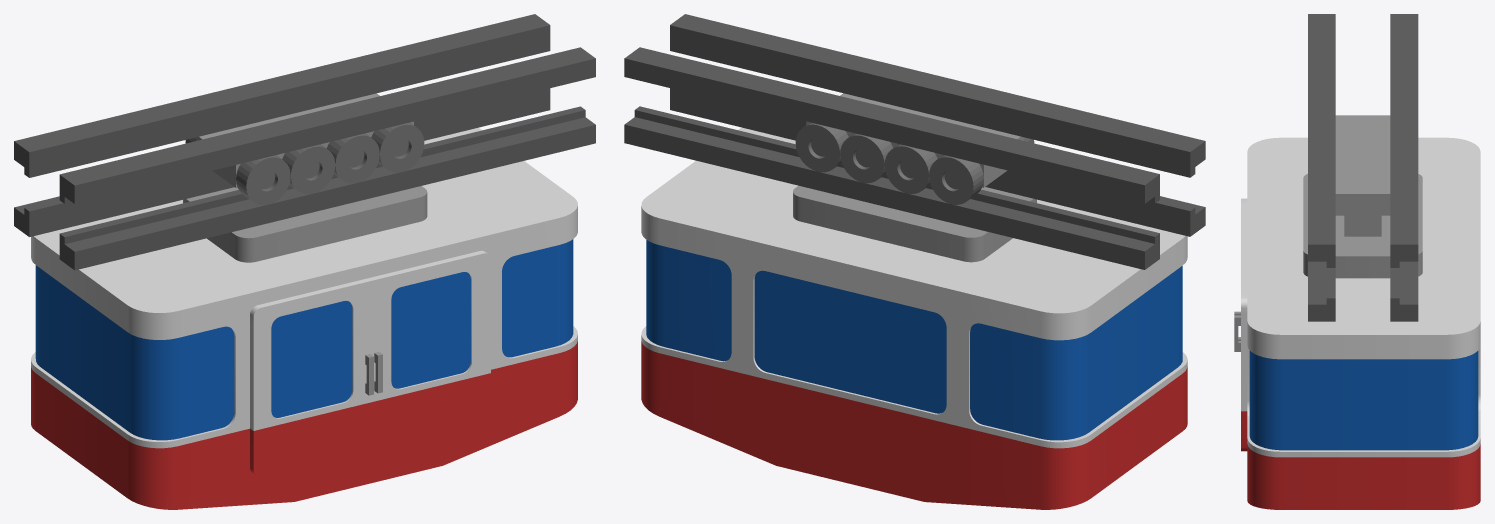
The model's file is suspension_railway.gltf.
3 renders of one model, left to right at view 1: azimuth 30°, elevation 25°; view 2: azimuth 150°, elevation 25°; view 3: azimuth 270°, elevation 25°, orthographic. The views are drawn at different scales.
Visible parts, largest first — view 1: Cube.856, Cube.860, Cube.858, Cylinder.455, Cube.859; view 2: Cube.856, Cube.860, Cube.858, Cylinder.455; view 3: Cube.856, Cube.860, Cube.858.
Part boxes in pixels (x1=…): Cube.856: x1=31, y1=93, x2=577, y2=509; Cube.860: x1=14, y1=14, x2=595, y2=203; Cube.858: x1=14, y1=88, x2=595, y2=270; Cylinder.455: x1=185, y1=122, x2=424, y2=205; Cube.859: x1=365, y1=352, x2=382, y2=395; Cube.856: x1=641, y1=93, x2=1187, y2=509; Cube.860: x1=624, y1=14, x2=1205, y2=203; Cube.858: x1=624, y1=88, x2=1205, y2=269; Cylinder.455: x1=795, y1=122, x2=1034, y2=204; Cube.856: x1=1241, y1=115, x2=1480, y2=509; Cube.860: x1=1308, y1=14, x2=1418, y2=267; Cube.858: x1=1308, y1=261, x2=1418, y2=321.
Bounding box in the file's own units: 2.34 × 1.45 × 1.06.
Materials: 1 (1 with a texture image).
